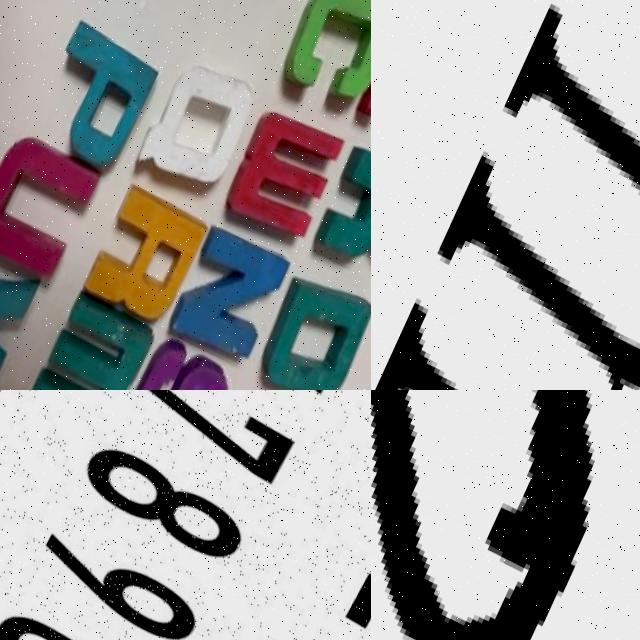0: (0, 584, 185, 640)
6: (145, 390, 371, 433)
7: (113, 390, 332, 506)
8: (371, 390, 640, 640), (61, 422, 282, 586)
9: (13, 505, 233, 640)
C: (277, 0, 371, 109)
D: (250, 259, 371, 390)
K: (315, 133, 371, 268)
M: (371, 0, 640, 390), (27, 281, 157, 390)
N: (165, 217, 292, 369)
P: (33, 22, 163, 174)
Q: (129, 46, 262, 204)
R: (83, 175, 213, 327)
S: (112, 335, 235, 390)
U: (0, 129, 95, 280)
V: (0, 240, 41, 390)
W: (217, 97, 346, 247)
